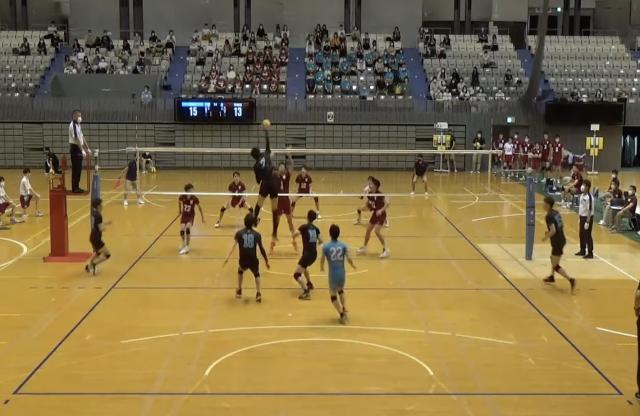spike: (244, 116, 284, 246)
